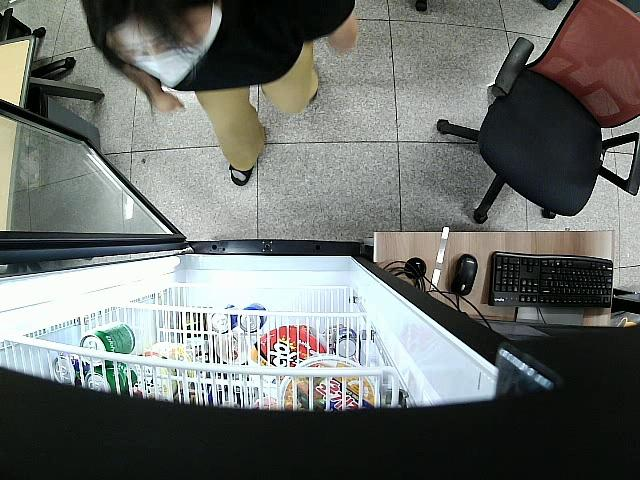00_hand: (153, 87, 186, 116)
